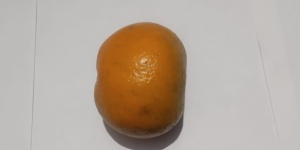BAD: (92, 22, 188, 140)
